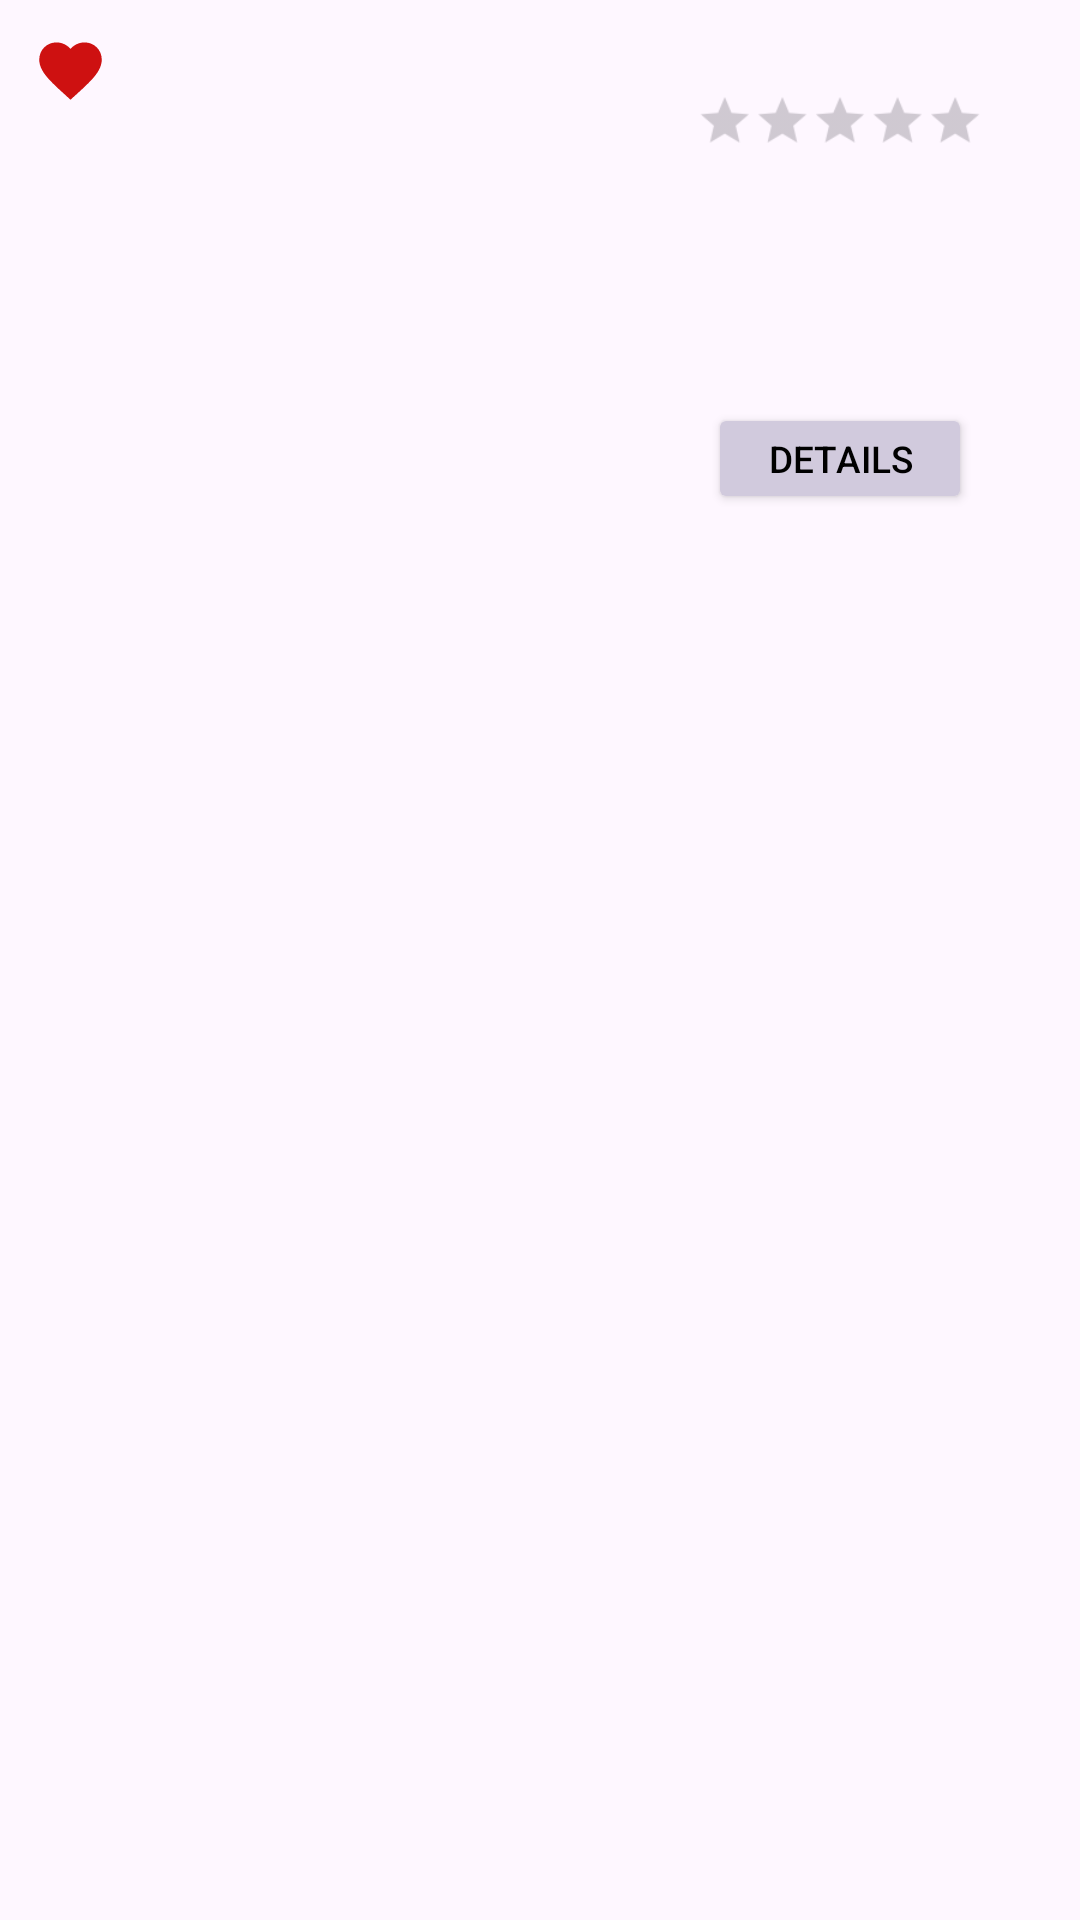

Icon click points for this 1080px×1920px phone screenshot, format (x=x, y=y):
favourite: (x=70, y=71)
